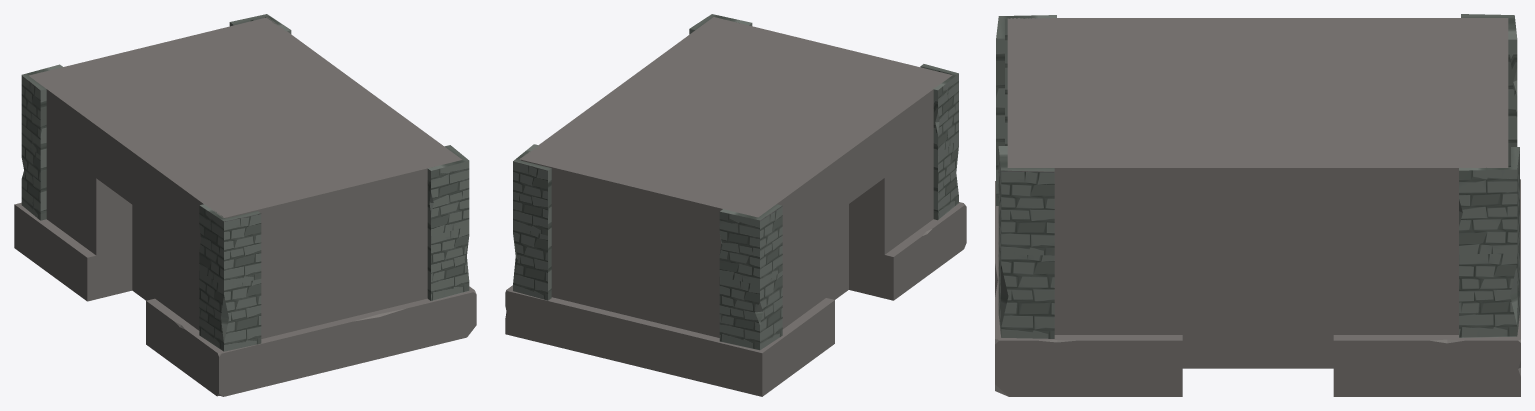
The model's file is SM_Env_Base_11.fbx.
3 renders of one model, left to right at view 1: azimuth 30°, elevation 25°; view 2: azimuth 150°, elevation 25°; view 3: azimuth 270°, elevation 25°, orthographic. The views are drawn at different scales.
Parts seen in each view (by area): view 1: SM_Env_Base_11; view 2: SM_Env_Base_11; view 3: SM_Env_Base_11.
Boxes of the visible parts, x1,y1,x2,y2 form: SM_Env_Base_11: (14,14,476,396); SM_Env_Base_11: (505,14,966,396); SM_Env_Base_11: (995,14,1520,396).
Bounding box in the file's own units: 587 × 379 × 808.
Materials: 1 (1 with a texture image).
